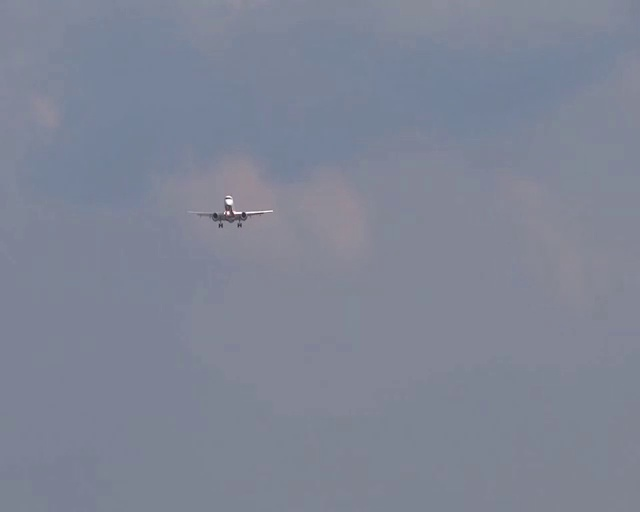AIRPLANE: (188, 196, 274, 229)
